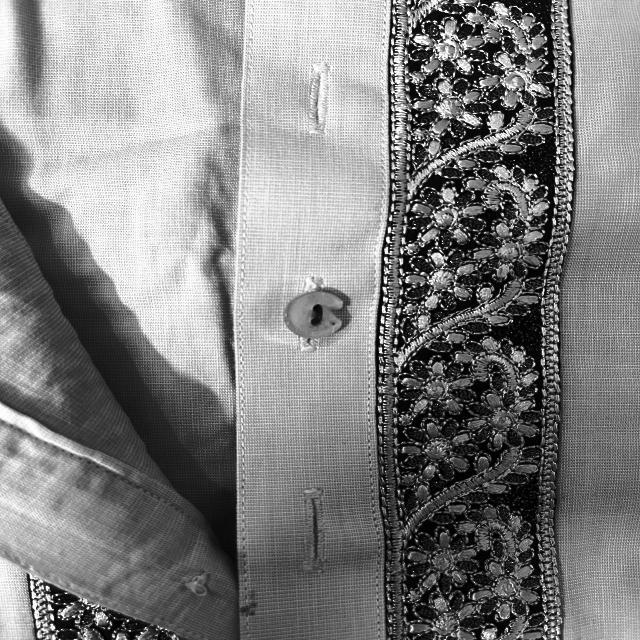Broken_button: (269, 275, 368, 352)
